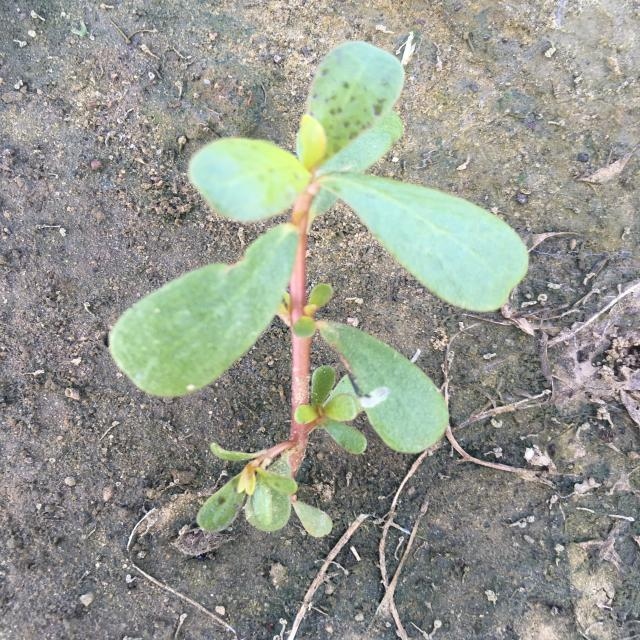Purslane: (108, 40, 529, 538)
